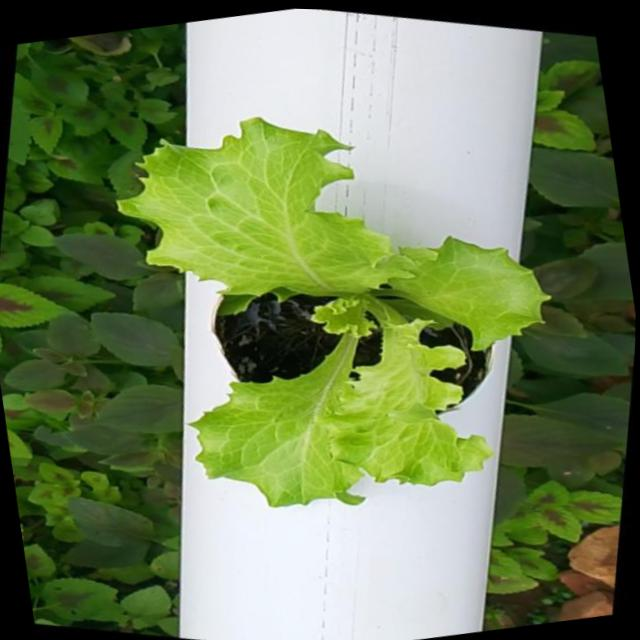Baby: (139, 116, 567, 502)
